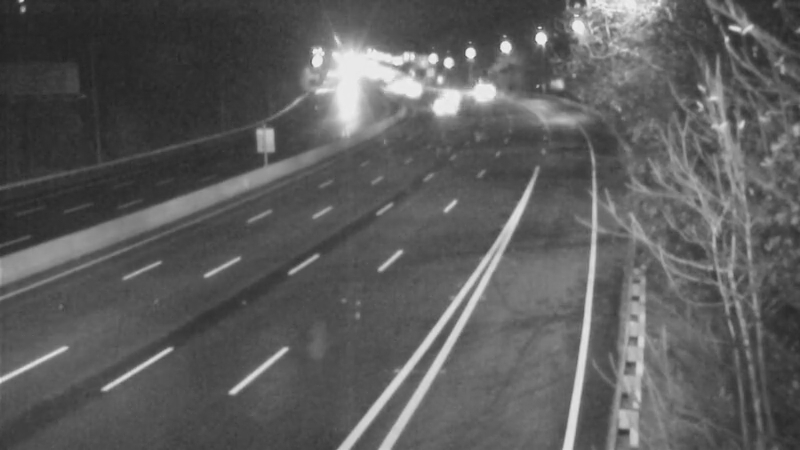vehicle: (388, 65, 438, 115), (456, 64, 506, 114), (428, 72, 478, 122), (420, 80, 470, 130), (322, 77, 372, 127)
